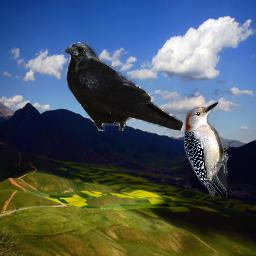Crow: (62, 42, 184, 131)
Woodpecker: (184, 102, 230, 197)
